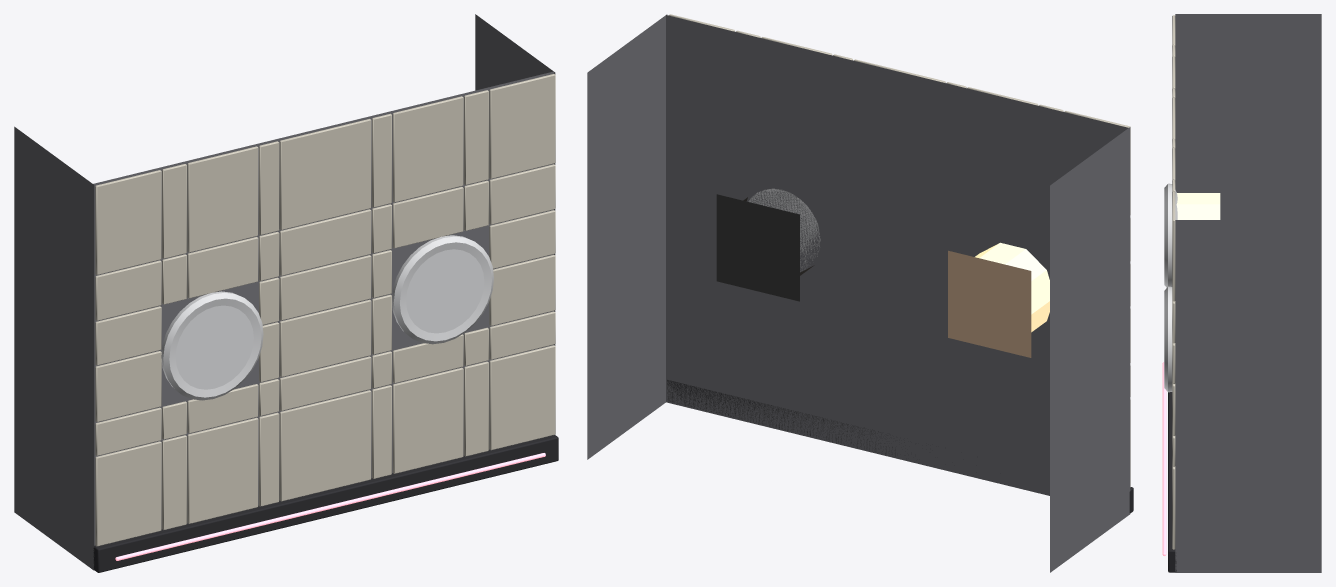
File: retro_upper_4b.glb
3 renders of one model, left to right at view 1: azimuth 30°, elevation 25°; view 2: azimuth 150°, elevation 25°; view 3: azimuth 270°, elevation 25°, orthographic. The views are drawn at different scales.
Parts seen in each view (by area): view 1: retro_upper_4b; view 2: retro_upper_4b; view 3: retro_upper_4b.
Boxes of the visible parts, x1,y1,x2,y2 form: retro_upper_4b: (14, 14, 558, 572); retro_upper_4b: (587, 14, 1133, 572); retro_upper_4b: (1162, 14, 1321, 572).
Size of the model in its own units: 4 by 3.2 by 1.31.
